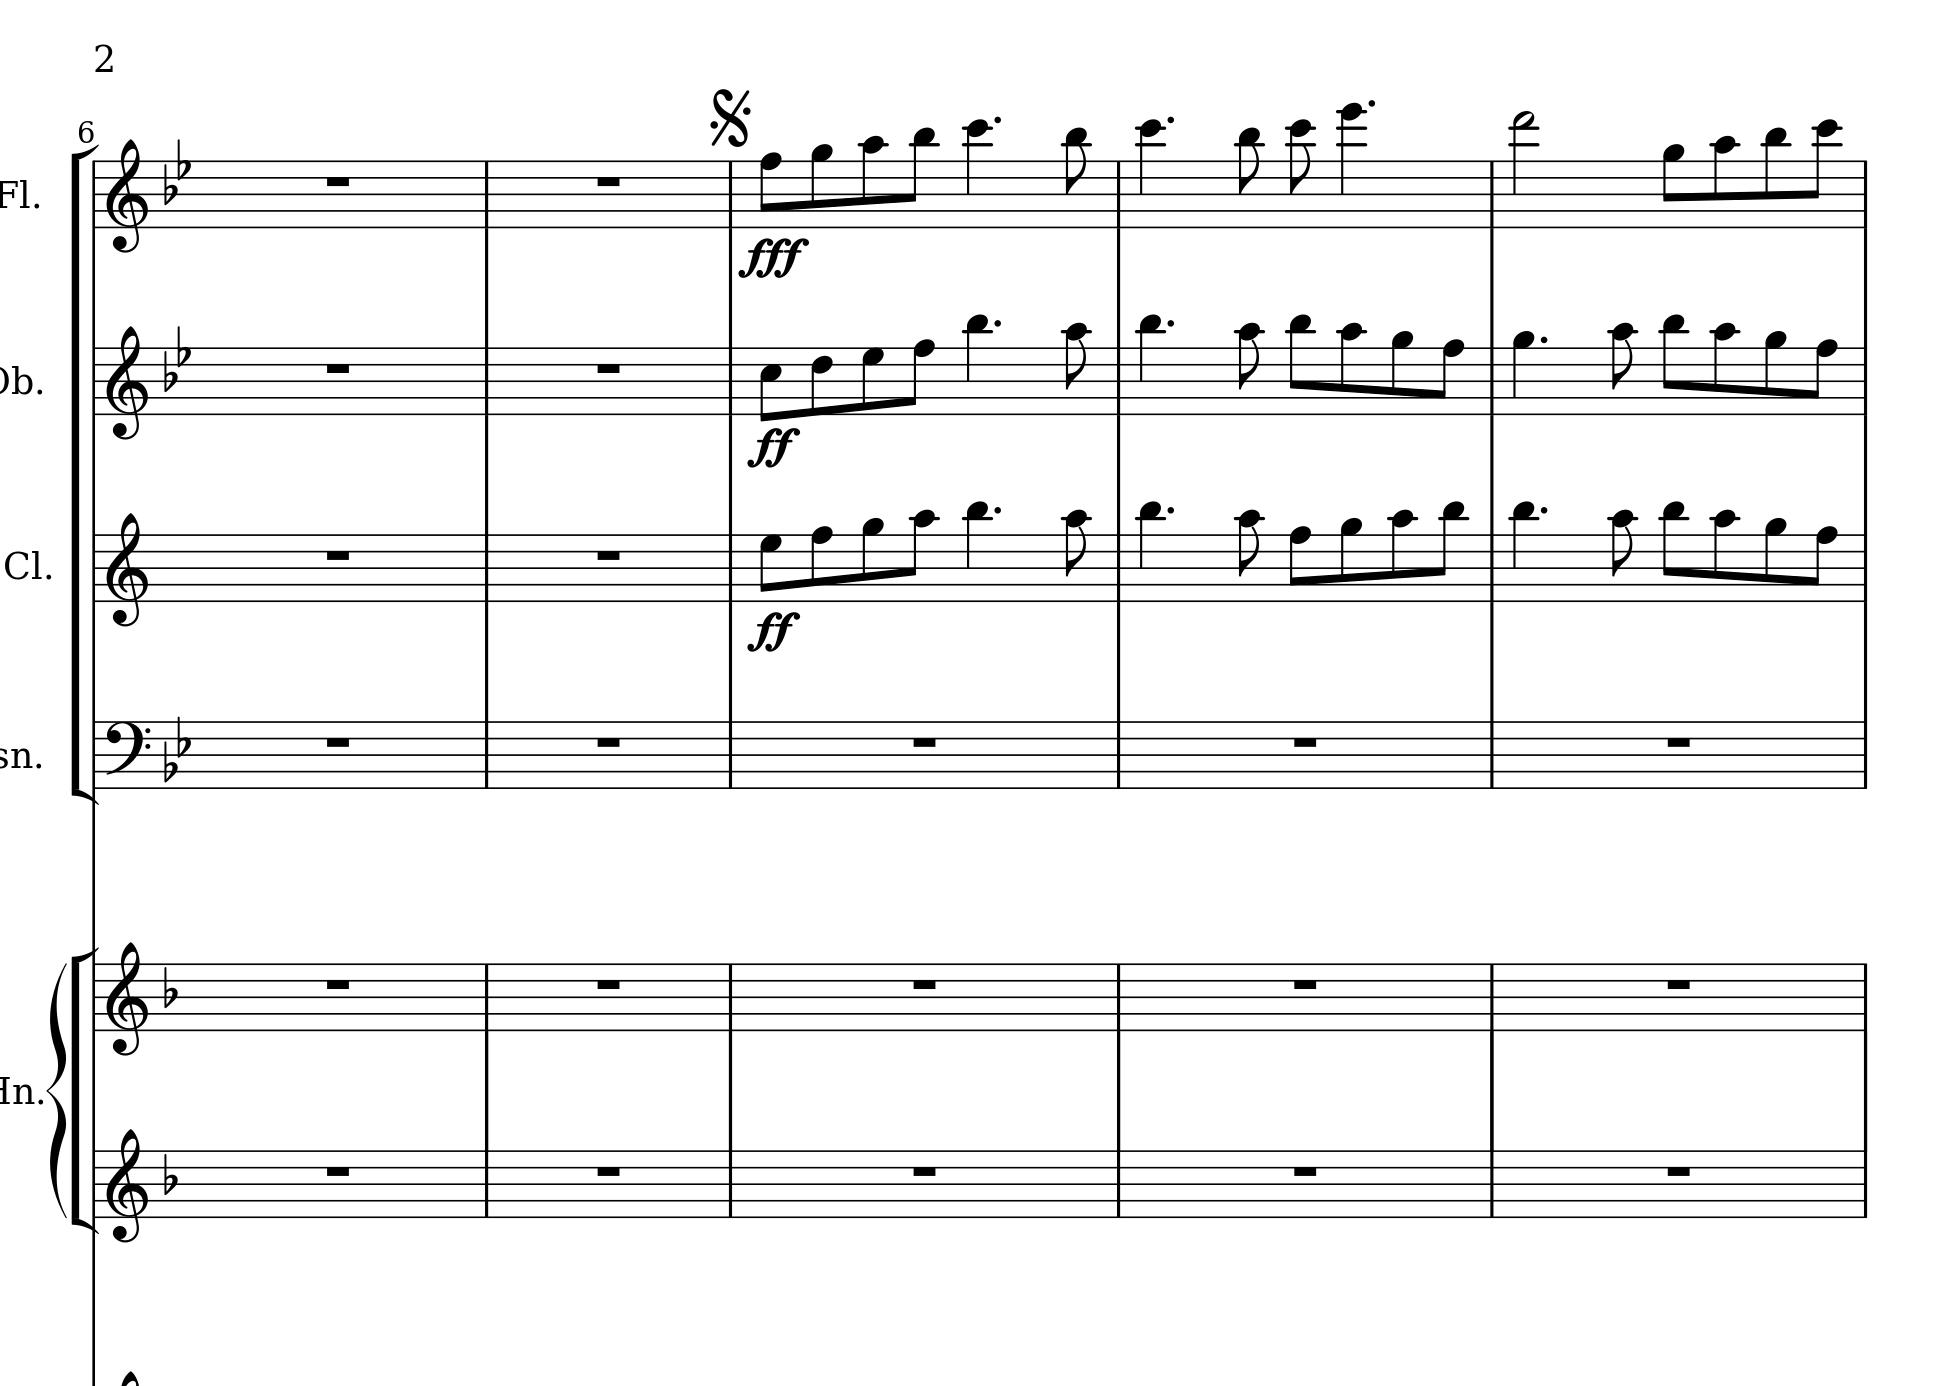2: (91, 40, 115, 72)
2_13: (1509, 108, 1539, 229)
4_11: (963, 499, 993, 604), (1509, 499, 1539, 604), (963, 312, 991, 417), (1135, 312, 1164, 417), (1137, 499, 1164, 604)
4_12: (961, 118, 994, 231), (1137, 117, 1167, 229)
4_14: (1338, 102, 1368, 229)
4_9: (1512, 328, 1536, 417)
6: (76, 118, 94, 144)
8_10: (901, 507, 939, 603), (1062, 508, 1093, 604), (1236, 508, 1266, 604), (1608, 508, 1638, 604), (1063, 321, 1092, 417), (1236, 321, 1264, 415), (1389, 507, 1416, 604), (1711, 507, 1738, 604), (1611, 321, 1638, 417), (859, 135, 886, 229), (1339, 319, 1365, 417), (1713, 133, 1738, 229), (1713, 319, 1737, 415)
8_11: (1432, 498, 1467, 604), (903, 124, 937, 229), (1659, 499, 1689, 603), (1236, 124, 1264, 229), (1762, 124, 1791, 229), (1287, 310, 1315, 415), (1660, 310, 1689, 415), (1063, 124, 1090, 231)
8_12: (1807, 117, 1842, 229), (1287, 118, 1317, 229)
8_5: (757, 343, 783, 421)
8_6: (808, 345, 834, 418)
8_7: (756, 529, 784, 601), (859, 345, 885, 417)
8_8: (1806, 337, 1839, 417), (1806, 523, 1839, 603), (903, 337, 934, 417), (1434, 337, 1465, 415), (808, 523, 835, 604), (1288, 523, 1314, 604), (757, 151, 783, 229)
8_9: (1338, 516, 1365, 604), (859, 516, 885, 604), (808, 142, 834, 229), (1390, 328, 1416, 415), (1662, 142, 1686, 229), (1764, 328, 1788, 415), (1764, 516, 1788, 603)
B_F: (160, 136, 192, 205), (160, 322, 192, 391), (162, 714, 192, 781)
Brace: (45, 955, 69, 1225)
Bracke: (67, 142, 97, 814), (69, 943, 99, 1234)
Cl: (1, 541, 46, 586)
Fclef: (103, 718, 153, 790)
Fl: (1, 174, 33, 214)
Flat: (160, 963, 180, 1009), (160, 1150, 178, 1195)
Gclef: (103, 510, 151, 628), (103, 1125, 148, 1243), (103, 136, 148, 253), (103, 940, 148, 1057), (103, 324, 148, 439)
Ob: (1, 358, 33, 403)
Rests1: (322, 1161, 354, 1180), (322, 732, 352, 751), (322, 172, 354, 190), (592, 172, 624, 190), (322, 358, 354, 376), (1290, 732, 1321, 750), (1663, 732, 1695, 750), (322, 975, 354, 993), (592, 975, 624, 993), (909, 975, 940, 993), (1290, 975, 1321, 993), (1663, 975, 1695, 993), (1663, 1161, 1695, 1179), (322, 546, 352, 564), (592, 360, 624, 376), (592, 546, 624, 562), (909, 733, 940, 750), (592, 1162, 624, 1179), (909, 1162, 940, 1179), (1290, 1162, 1321, 1179), (592, 733, 624, 748)
Segno: (705, 84, 754, 148)
Single_barline: (1483, 346, 1503, 414), (1855, 346, 1873, 415), (1110, 532, 1128, 601), (478, 532, 496, 601), (721, 532, 739, 601), (1483, 532, 1501, 601), (1110, 346, 1128, 414), (478, 346, 496, 414), (721, 346, 739, 414), (721, 720, 739, 787), (721, 963, 739, 1030), (1110, 963, 1128, 1030), (721, 1149, 739, 1216), (1857, 157, 1873, 229), (1110, 160, 1128, 226), (1483, 160, 1501, 226), (721, 160, 739, 226), (1110, 720, 1126, 790), (87, 1149, 103, 1219), (85, 721, 102, 790), (87, 961, 103, 1030), (1857, 961, 1873, 1030), (478, 720, 495, 787), (478, 963, 495, 1030), (1110, 1149, 1126, 1216), (478, 160, 495, 226), (1857, 532, 1872, 603), (1857, 718, 1872, 789), (1485, 720, 1500, 789), (87, 534, 102, 601), (478, 1149, 493, 1216), (87, 160, 102, 226), (87, 348, 102, 414), (1485, 963, 1500, 1029), (1485, 1150, 1500, 1216), (1857, 1150, 1872, 1216)
dot: (1164, 316, 1177, 331), (1537, 331, 1551, 346), (1164, 502, 1177, 517), (1537, 502, 1551, 517), (1164, 112, 1176, 127), (991, 502, 1003, 517), (1365, 96, 1377, 109), (991, 112, 1003, 126), (991, 316, 1003, 330)
ff: (745, 424, 802, 469), (745, 609, 801, 654)
fff: (736, 235, 810, 282)
